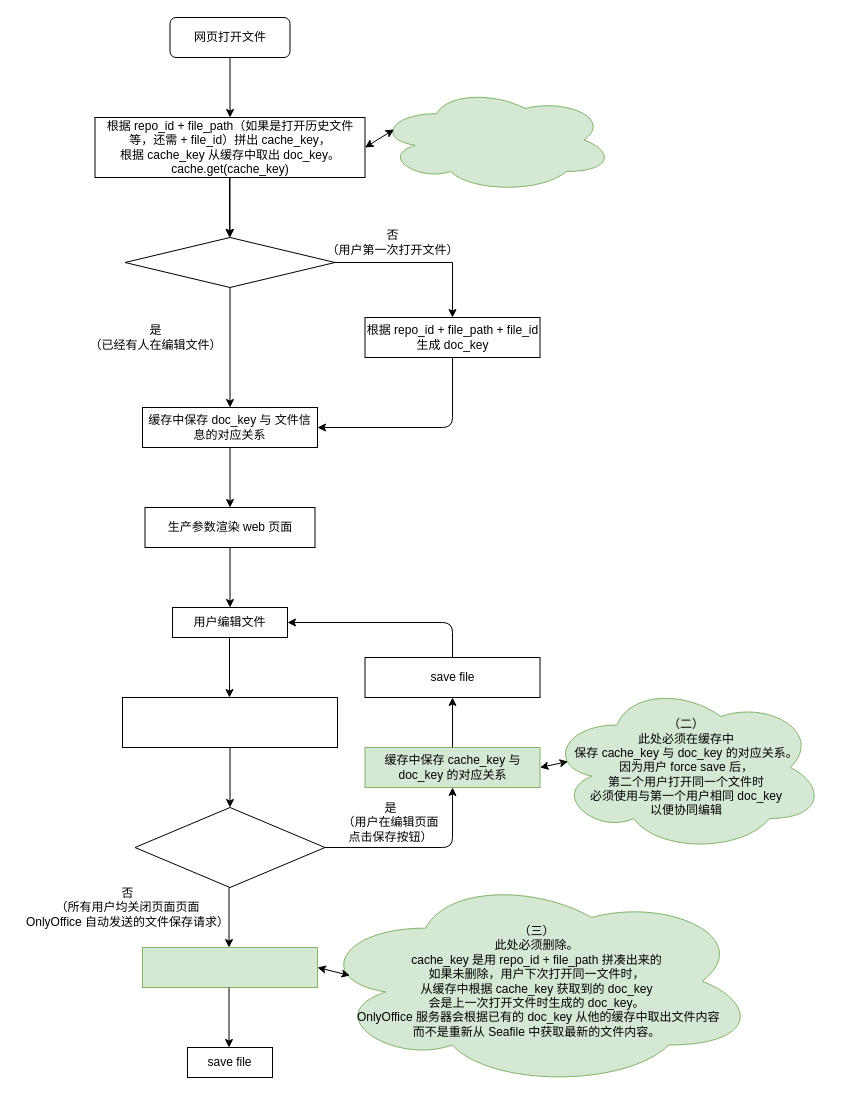
Some shapes in this 842 by 1105 pixel diagram are drawn without their labels. Each missing label, with the centre of its shape:
seahub 收到 OnlyOffice 服务器发送来的保存文件的请求: point 230,722
判断此次保存 是否为 force save 请求: point 229,847
是否获取到 doc_key?: point 229,262
缓存中删除 cache_key 与 doc_key 信息: point 230,967
（一） 协同编辑时， 根据 repo_id + file_path 标识文件， 保证不同用户打开的是同一文件: point 495,139
